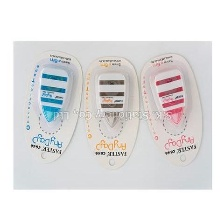book: (138, 51, 206, 169), (20, 49, 85, 165), (81, 53, 143, 172)
correction_fluid: (36, 62, 77, 125), (93, 69, 130, 129), (153, 67, 188, 125)
